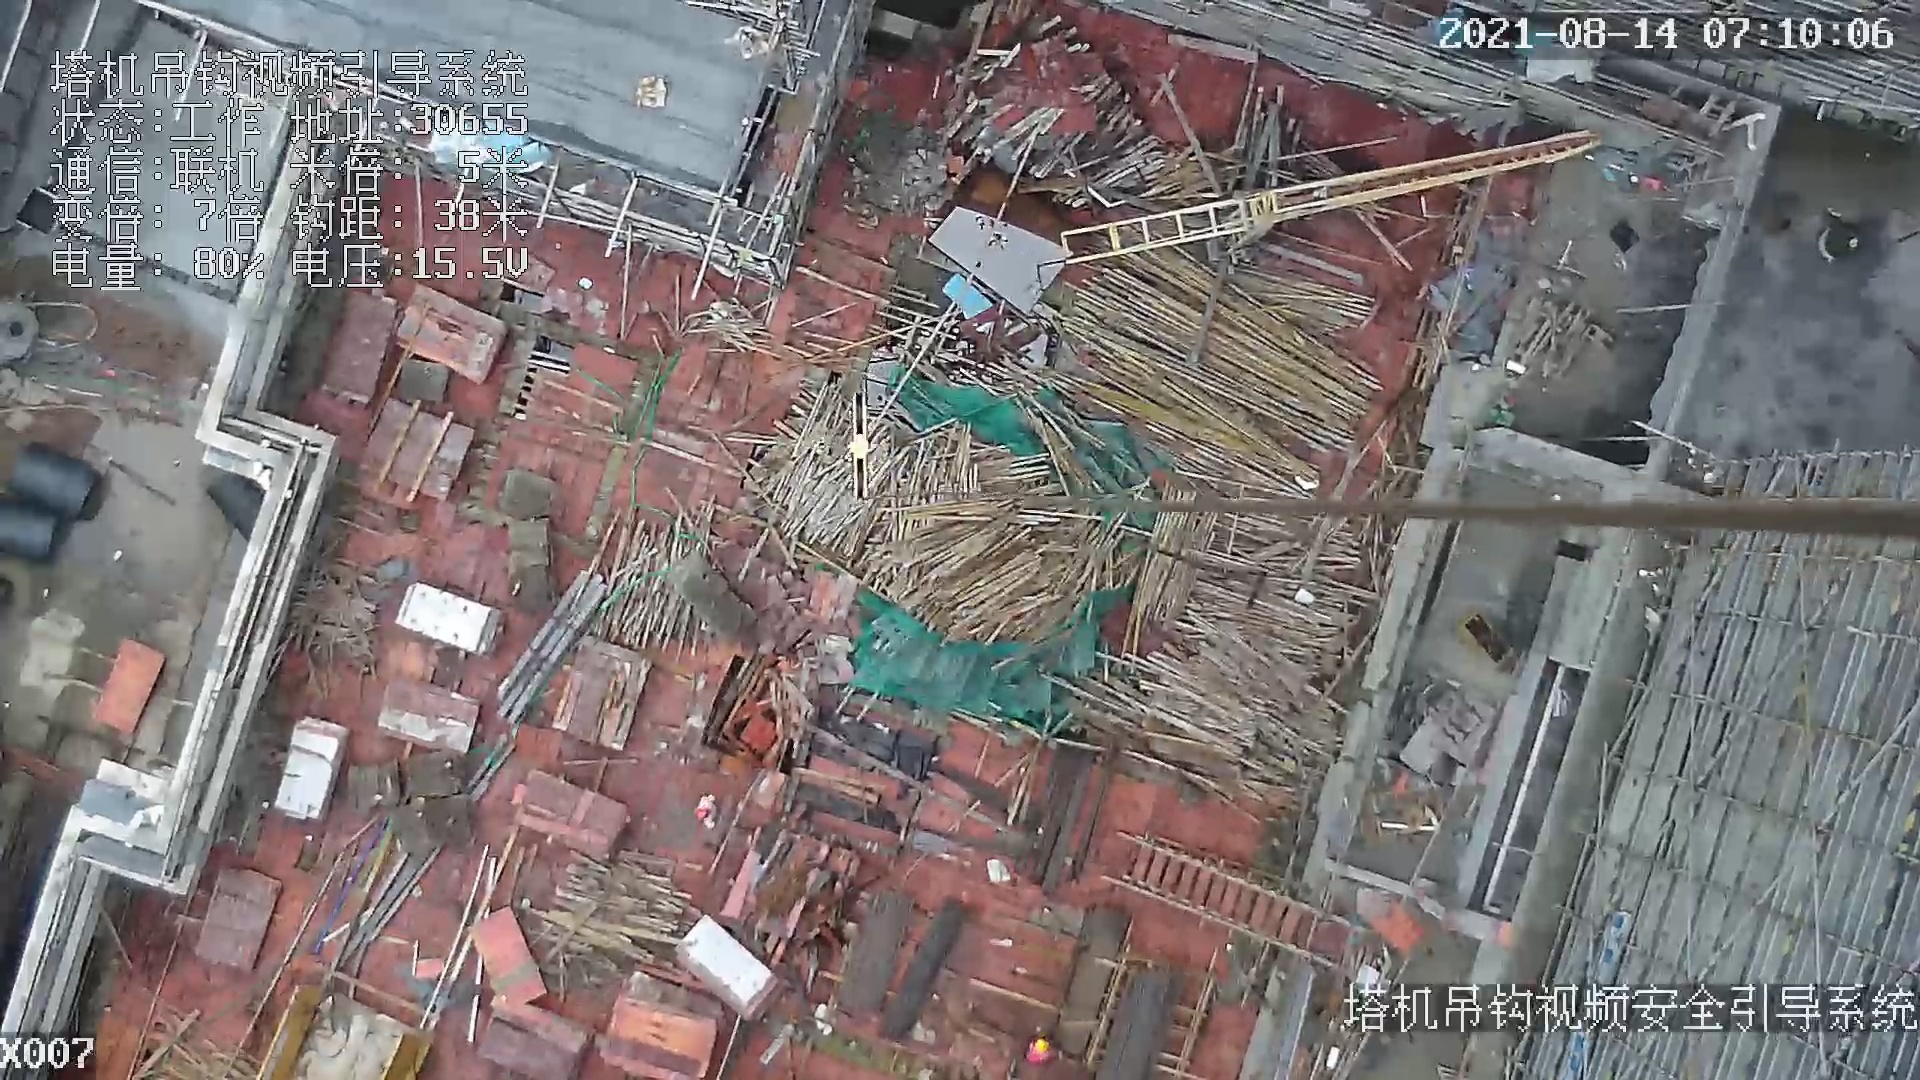helmet: (697, 807, 707, 820)
hook: (844, 386, 879, 503)
person: (695, 800, 728, 831)
